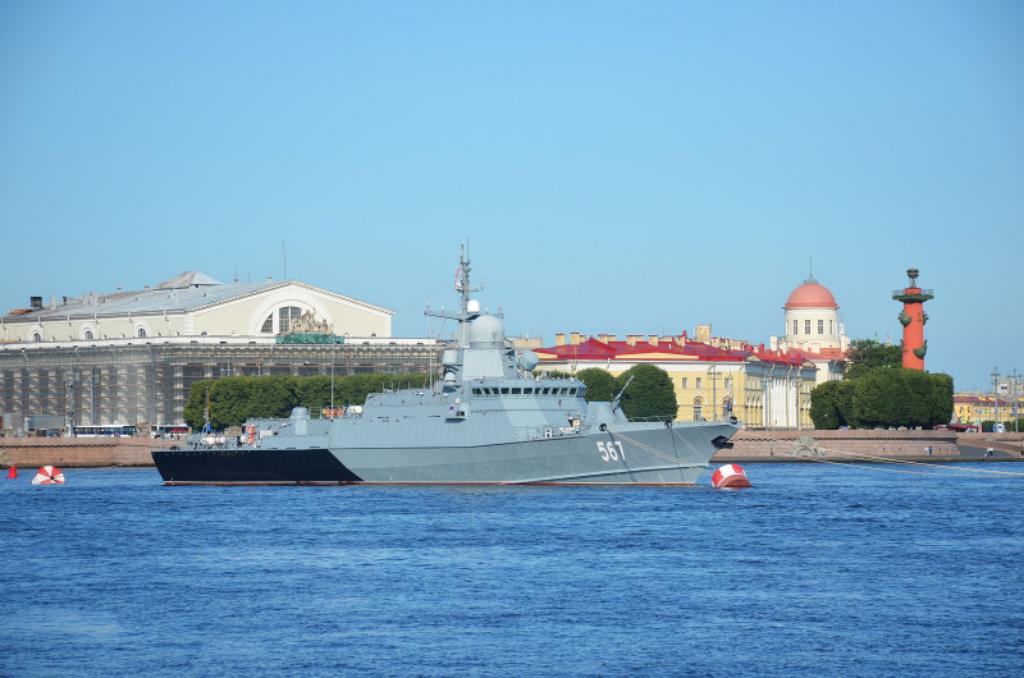Warship: (150, 238, 742, 486)
